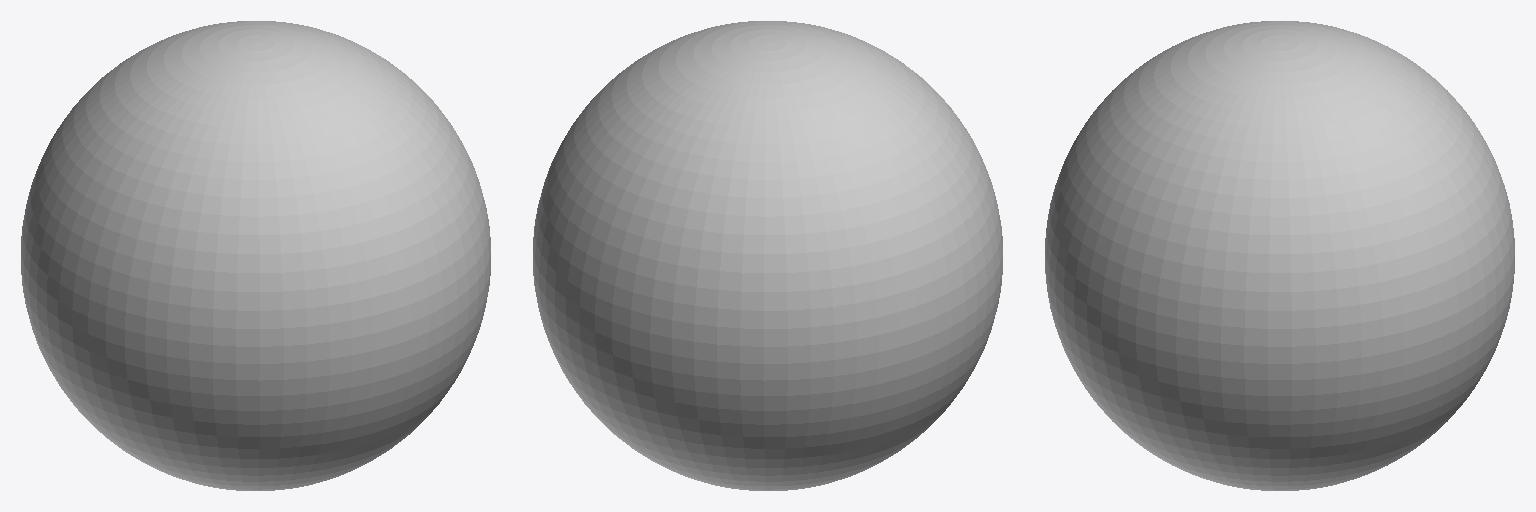
Rendered from globe.obj.
3 views of the same model, side by side, from view 1: azimuth 30°, elevation 25°; view 2: azimuth 150°, elevation 25°; view 3: azimuth 270°, elevation 25° (orthographic).
Parts seen in each view (by area): view 1: Sphere.001; view 2: Sphere.001; view 3: Sphere.001.
Boxes of the visible parts, box(x1,y1,x2,y2) form: Sphere.001: box(21, 21, 490, 490); Sphere.001: box(533, 21, 1002, 490); Sphere.001: box(1045, 21, 1514, 490).
Bounding box in the file's own units: 116 × 116 × 116.